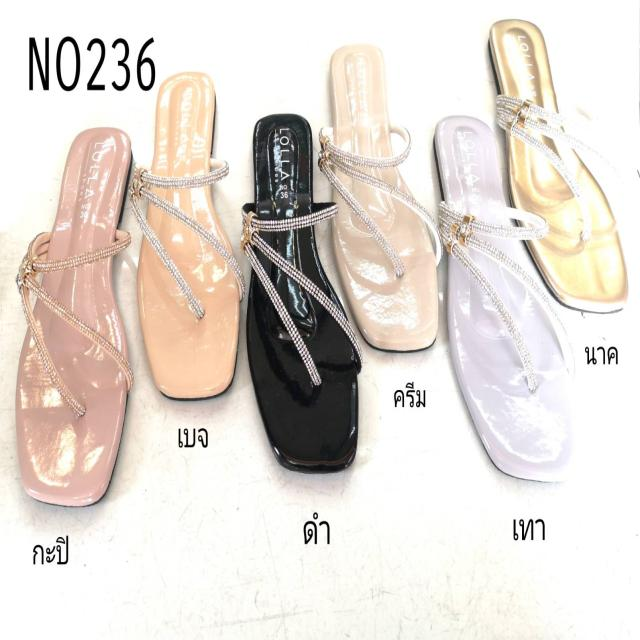bej: (140, 74, 239, 402)
black: (244, 115, 359, 464)
cream: (330, 44, 435, 354)
grey: (430, 115, 574, 484)
kapi: (18, 130, 135, 498)
nak: (487, 17, 632, 317)
